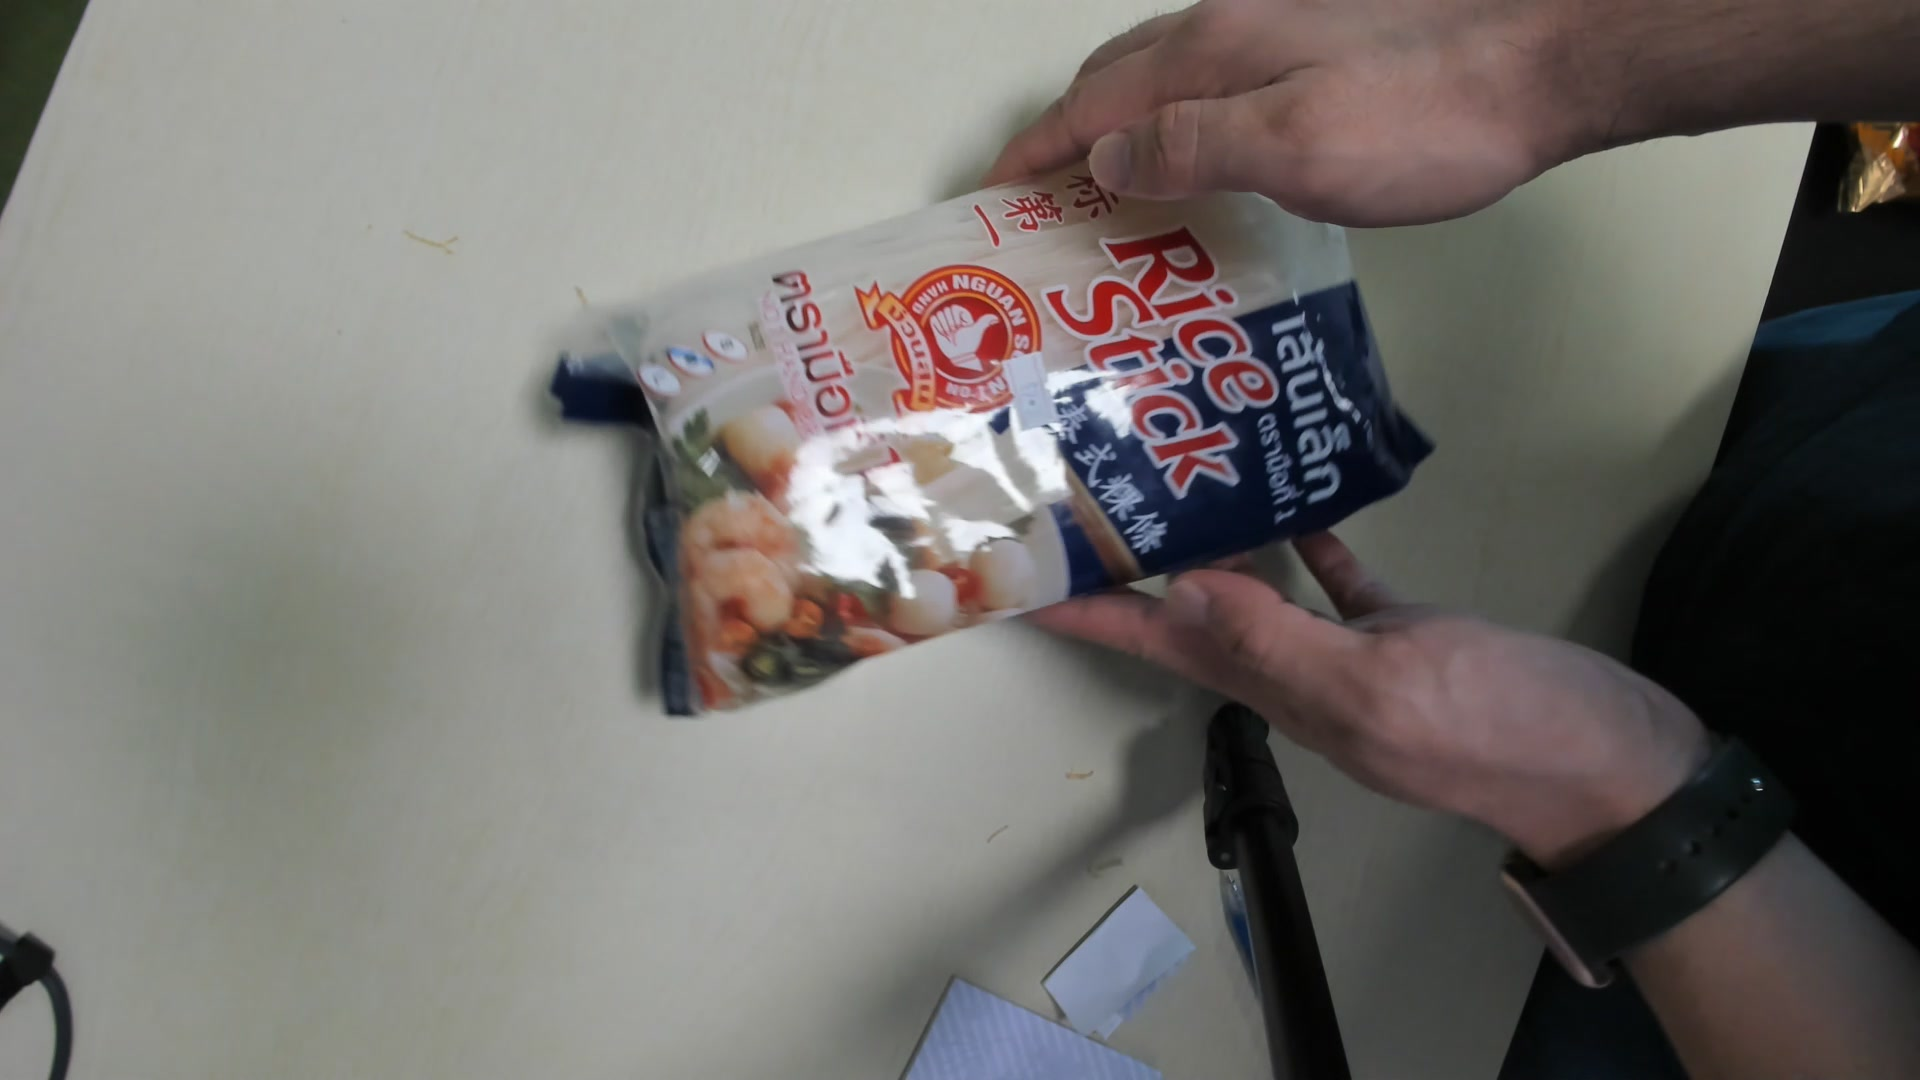OtherNoodles_400-499g_Halal_NonHealthy: (559, 162, 1425, 721)
